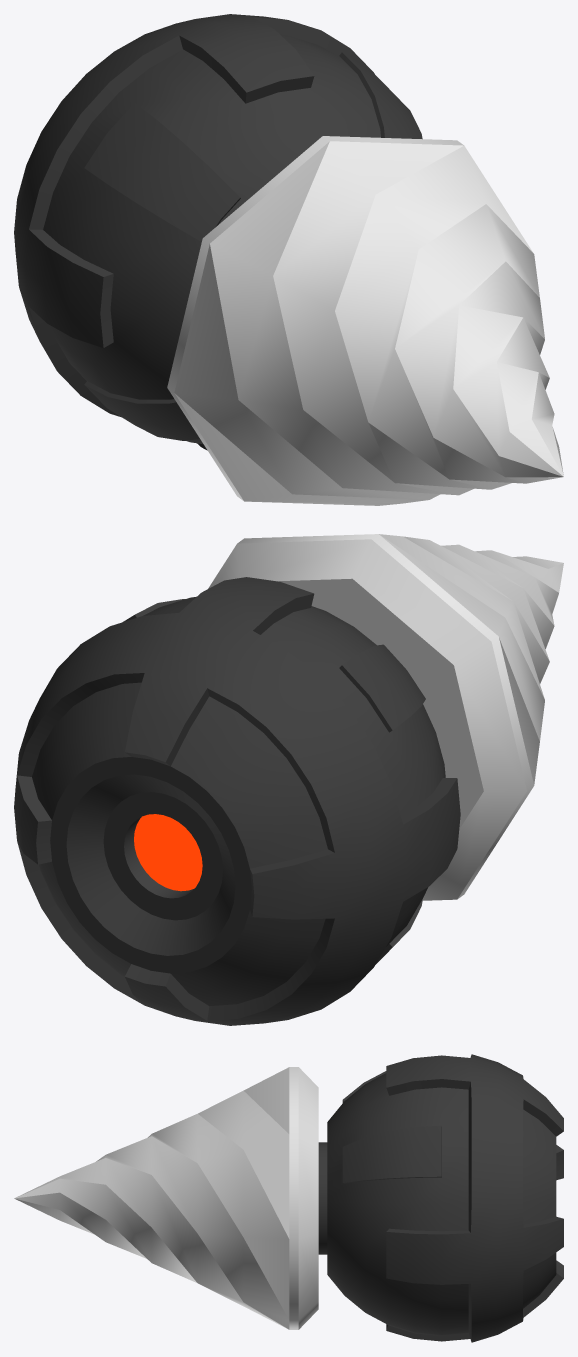
Rendered from bore_projectile.glb.
3 views of the same model, one above another, from view 1: azimuth 30°, elevation 25°; view 2: azimuth 150°, elevation 25°; view 3: azimuth 270°, elevation 25° (orthographic). The views are drawn at different scales.
Parts seen in each view (by area): view 1: drill bit, propulstion; view 2: propulstion, drill bit; view 3: propulstion, drill bit.
Boxes of the visible parts, <box> form: drill bit: <box>167,136,563,505</box>; propulstion: <box>14,14,422,450</box>; propulstion: <box>14,577,460,1025</box>; drill bit: <box>208,534,563,900</box>; propulstion: <box>318,1054,563,1342</box>; drill bit: <box>14,1067,318,1329</box>.
Size of the model in its own units: 0.2143 by 0.2143 by 0.3994.
